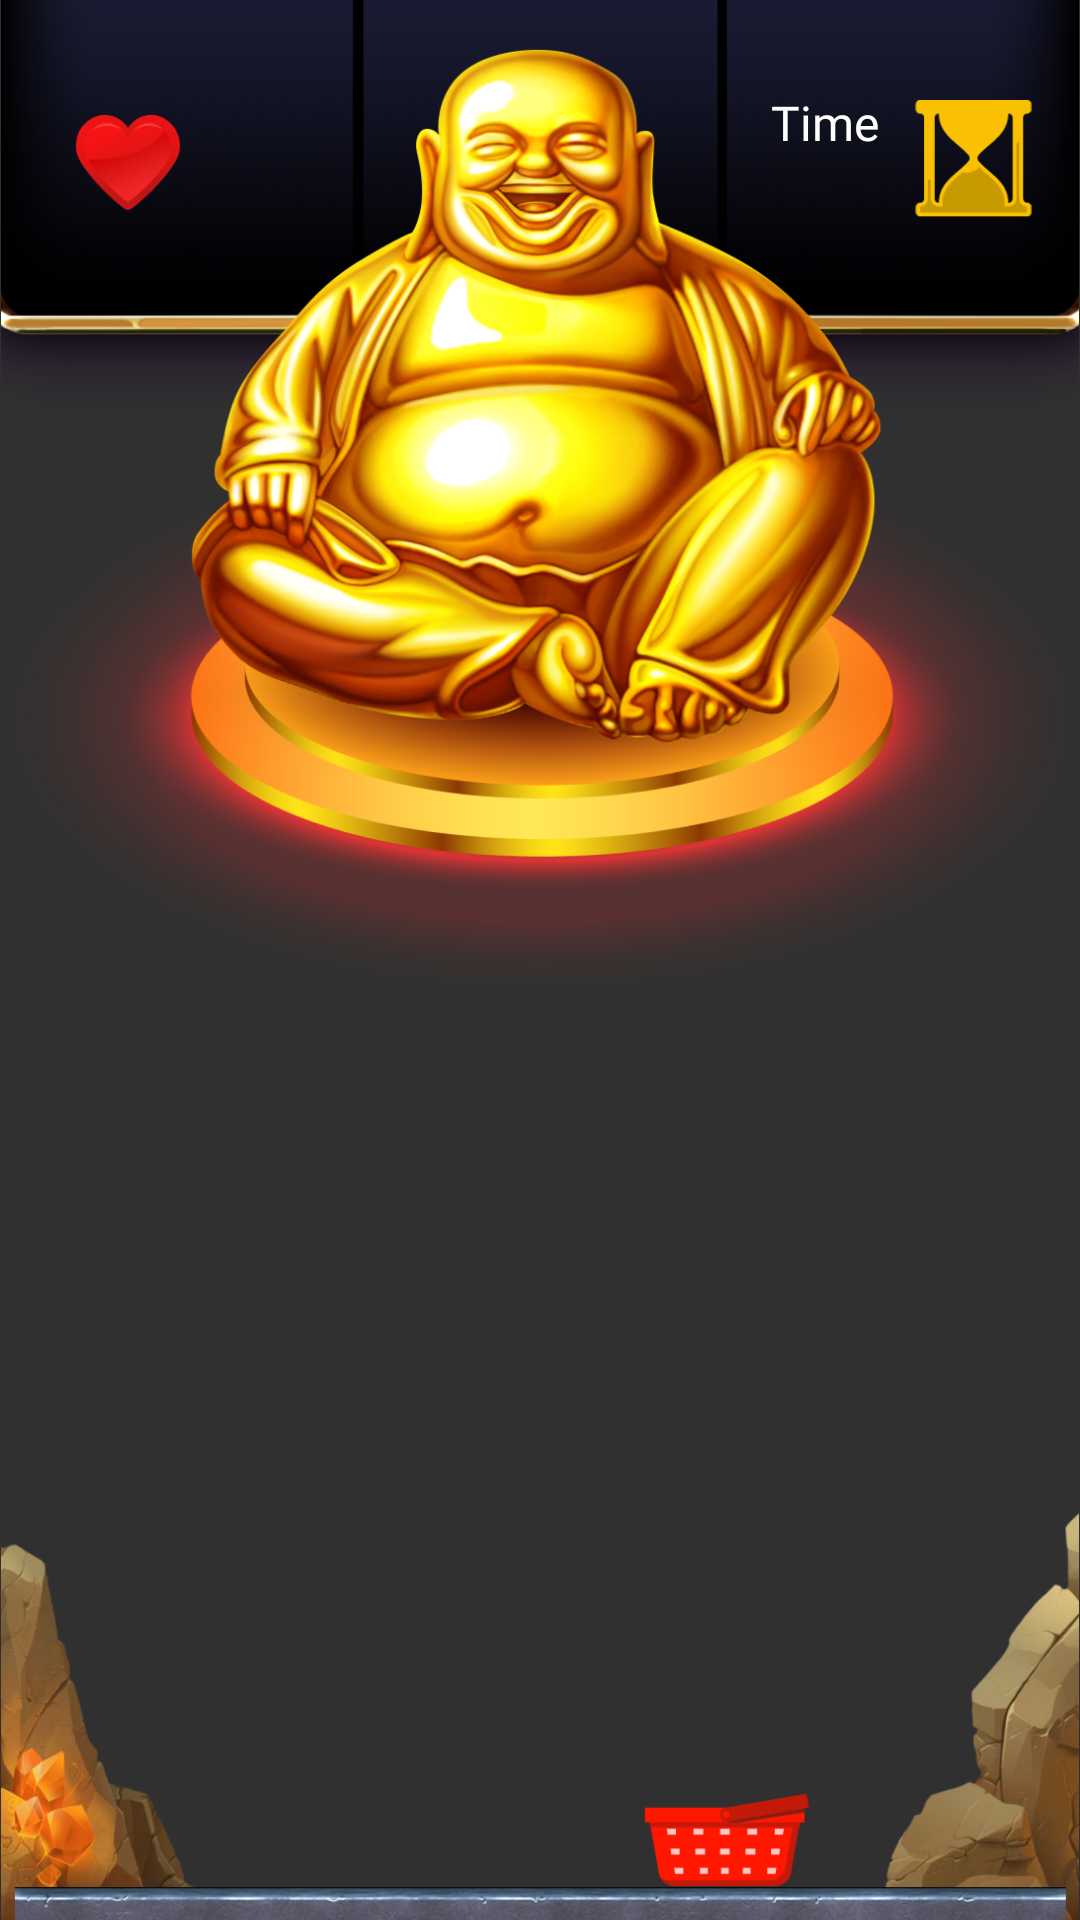

Named icons in this screenshot (1080px x 1920px) and their centers, [x,y]:
heart: [128,162]
